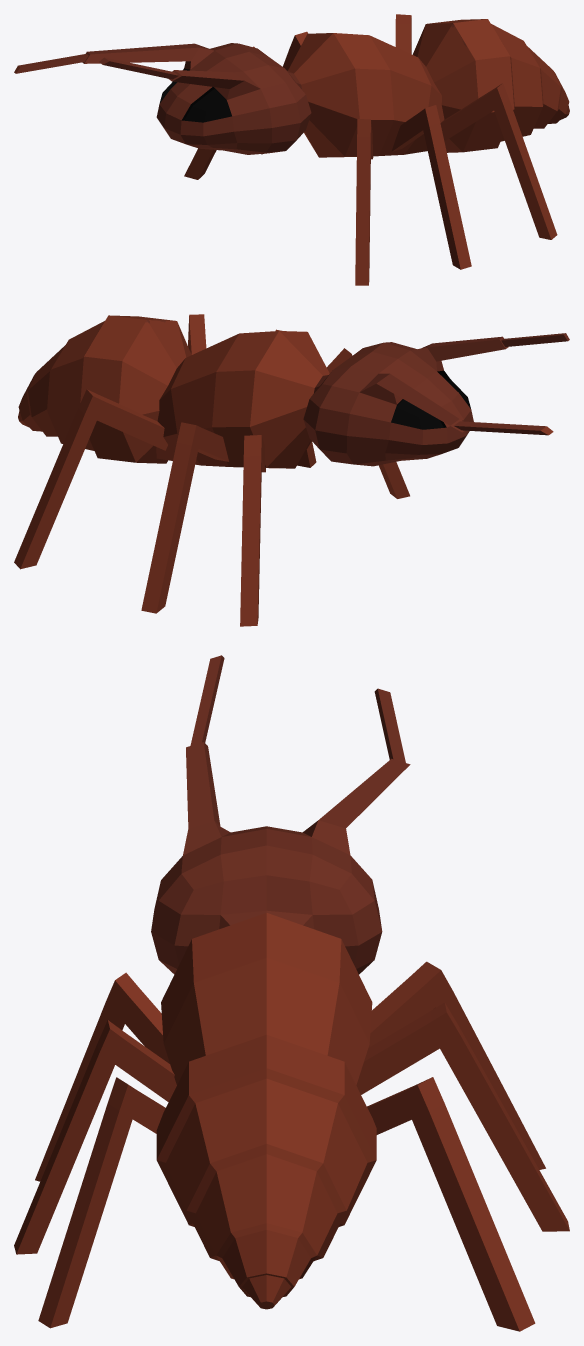
The model's file is Ant.fbx.
3 renders of one model, top to bottom at view 1: azimuth 30°, elevation 25°; view 2: azimuth 150°, elevation 25°; view 3: azimuth 270°, elevation 25°, orthographic. The views are drawn at different scales.
Visible parts, largest first — view 1: Ant; view 2: Ant; view 3: Ant.
Part boxes in pixels (x1,y1,x2,y2): Ant: [14, 14, 569, 285]; Ant: [14, 314, 569, 626]; Ant: [14, 655, 569, 1331].
Bounding box in the file's own units: 16.81 × 7.27 × 9.95.
